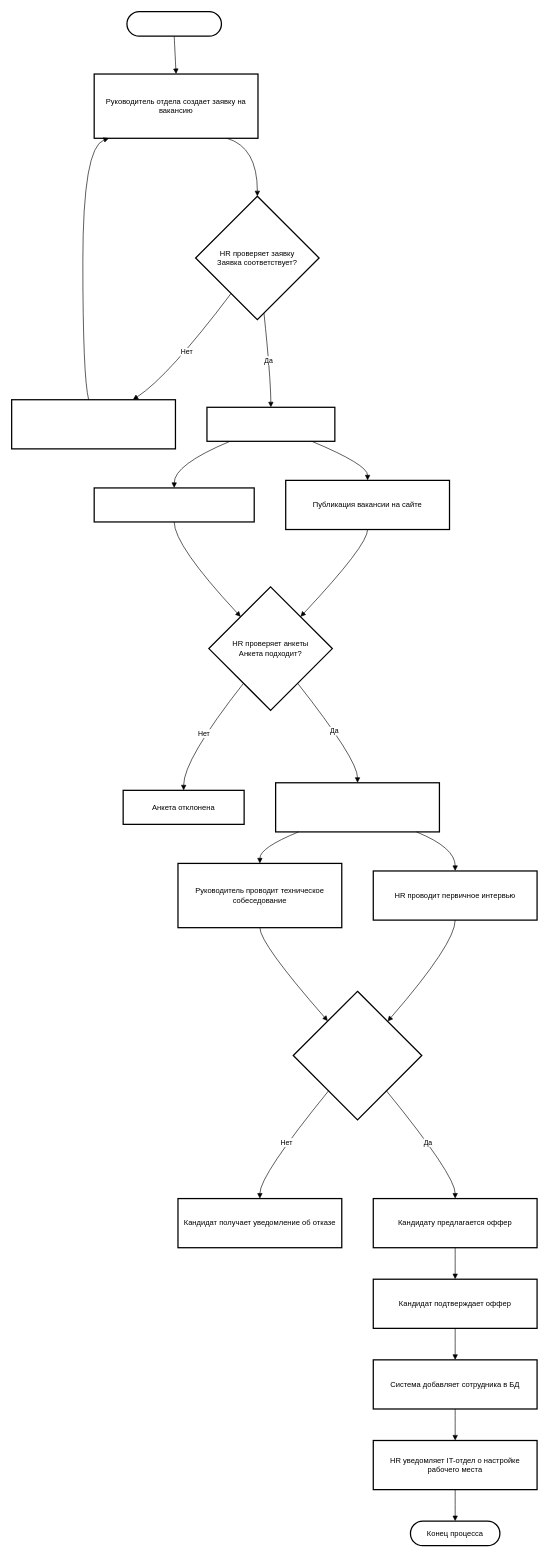
Some shapes in this 548 by 1557 pixel diagram are drawn without their labels. Each missing label, with the box of its shape:
Заявка утверждена: (206, 406, 335, 442)
Кандидат приглашается на собеседование: (275, 782, 440, 832)
Кандидаты подают заявки: (93, 487, 255, 522)
Начало процесса: (126, 11, 222, 37)
Оба собеседования пройдены успешно?: (292, 990, 422, 1120)
Руководитель получает уведомление о доработке: (11, 399, 176, 449)
